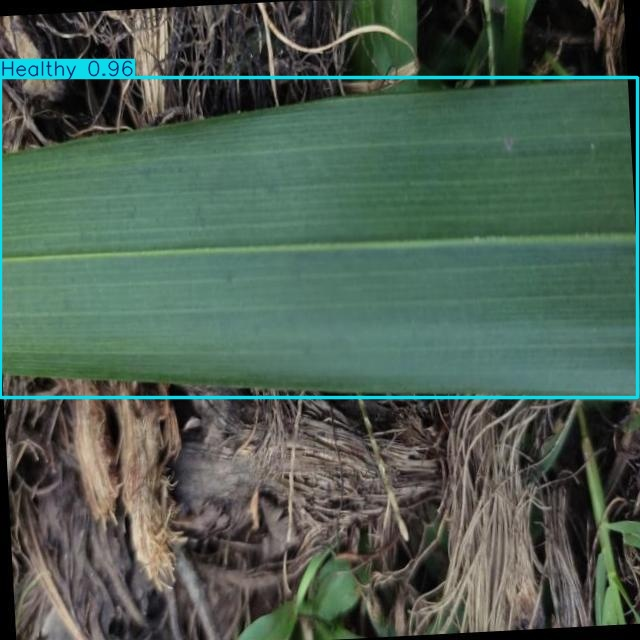Healthy: (0, 78, 637, 397)
